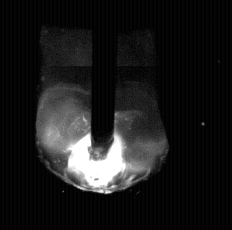arame: (91, 0, 116, 159)
poca: (35, 0, 167, 230)
